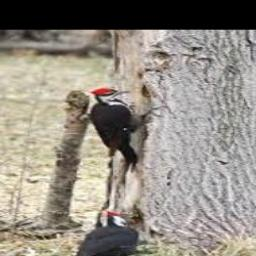Woodpecker: (89, 88, 166, 173), (75, 211, 159, 256)
